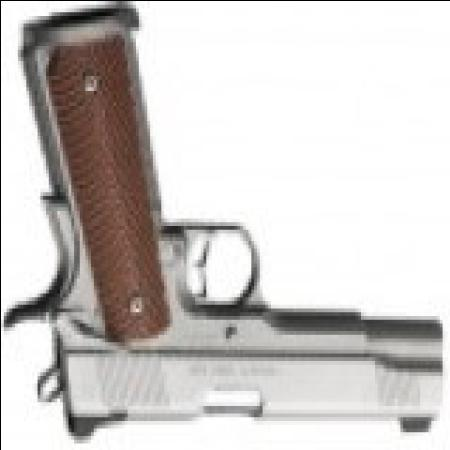Pistol: (3, 4, 433, 446)
